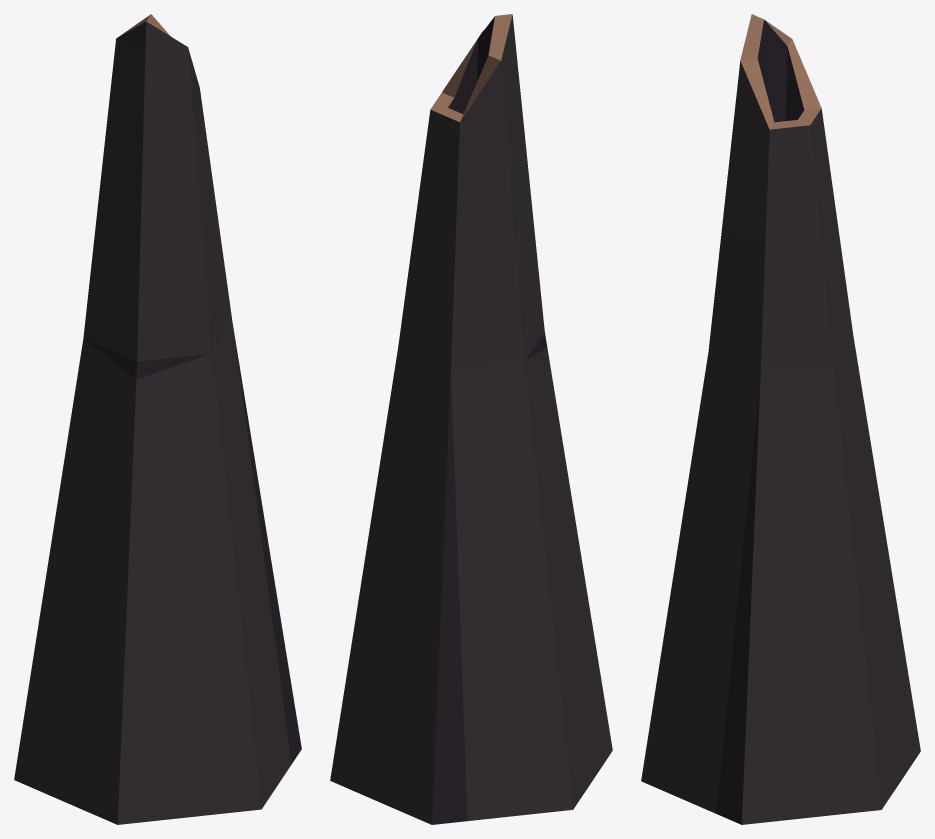
The model's file is дек4.fbx.
3 renders of one model, left to right at view 1: azimuth 30°, elevation 25°; view 2: azimuth 150°, elevation 25°; view 3: azimuth 270°, elevation 25°, orthographic. The views are drawn at different scales.
Visible parts, largest first — view 1: pCylinder22; view 2: pCylinder22; view 3: pCylinder22.
Part boxes in pixels (x1=…): pCylinder22: x1=14, y1=14, x2=301, y2=824; pCylinder22: x1=330, y1=14, x2=612, y2=824; pCylinder22: x1=641, y1=14, x2=920, y2=824.
Size of the model in its own units: 0.9443 by 2.77 by 0.951.
